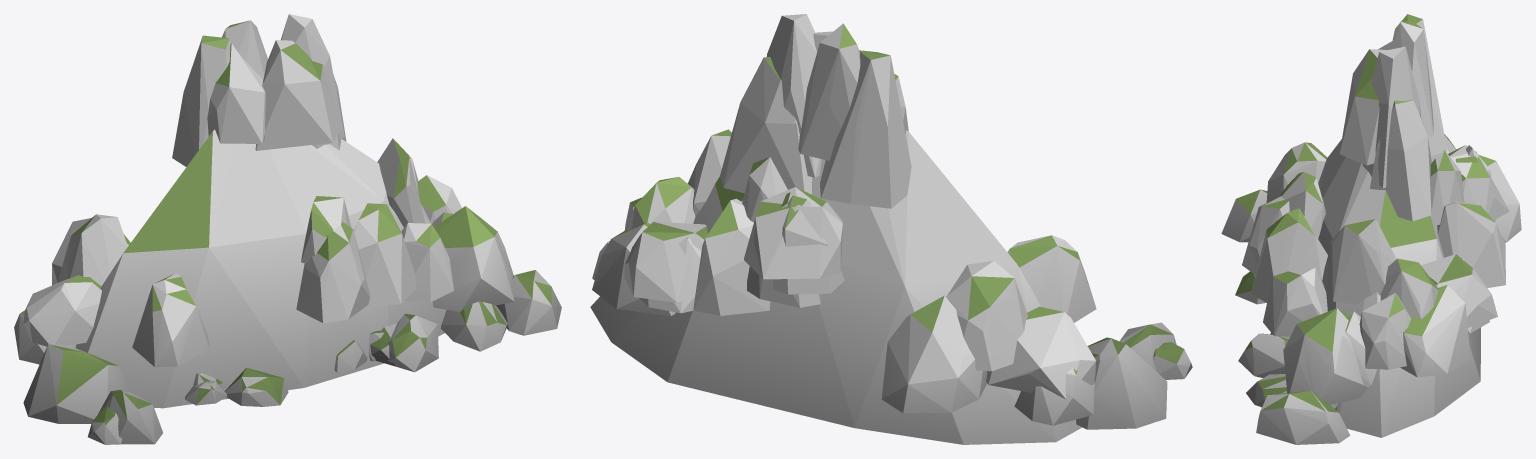
File: rk_mtn_3.glb
3 views of the same model, side by side, from view 1: azimuth 30°, elevation 25°; view 2: azimuth 150°, elevation 25°; view 3: azimuth 270°, elevation 25° (orthographic). The views are drawn at different scales.
Parts seen in each view (by area): view 1: rk_mtn_3; view 2: rk_mtn_3; view 3: rk_mtn_3.
Part boxes in pixels (x1,y1,x2,y2): rk_mtn_3: (14,14,561,444); rk_mtn_3: (590,14,1192,444); rk_mtn_3: (1221,14,1521,444).
Size of the model in its own units: 119 by 69.91 by 62.21.
